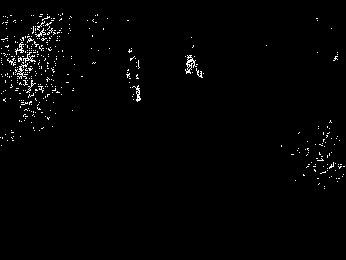person: (123, 45, 147, 107)
